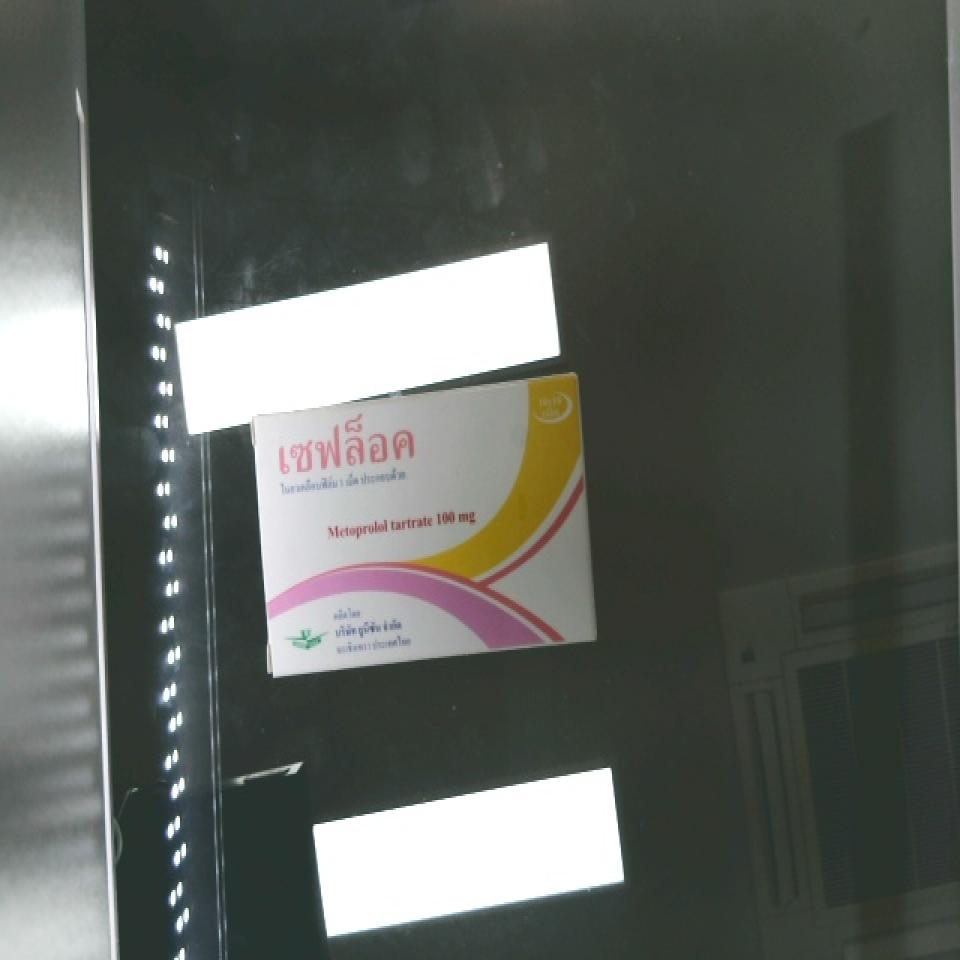medicine_box: (236, 374, 607, 680)
medicine_label_obb: (252, 393, 440, 492)
